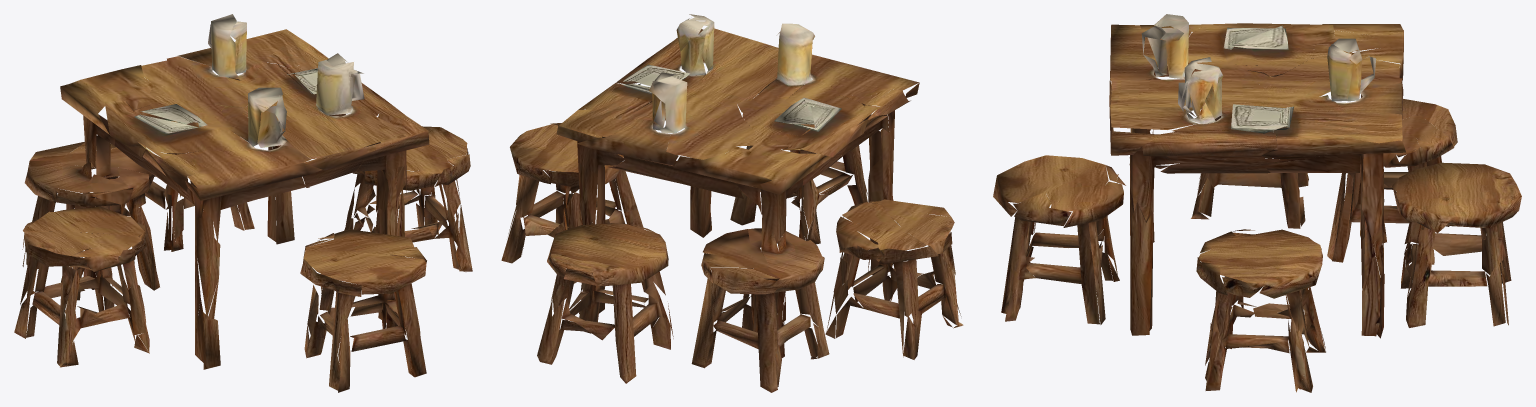
The model's file is izakaya_table.glb.
3 renders of one model, left to right at view 1: azimuth 30°, elevation 25°; view 2: azimuth 150°, elevation 25°; view 3: azimuth 270°, elevation 25°, orthographic. The views are drawn at different scales.
Parts seen in each view (by area): view 1: tripo_node_32dab903-fe34-469c-aa64-6209b7721dd0; view 2: tripo_node_32dab903-fe34-469c-aa64-6209b7721dd0; view 3: tripo_node_32dab903-fe34-469c-aa64-6209b7721dd0.
Part boxes in pixels (box(x1,y1,x2,y2)): tripo_node_32dab903-fe34-469c-aa64-6209b7721dd0: box(14, 14, 472, 392); tripo_node_32dab903-fe34-469c-aa64-6209b7721dd0: box(501, 14, 963, 392); tripo_node_32dab903-fe34-469c-aa64-6209b7721dd0: box(993, 14, 1521, 392).
Bounding box in the file's own units: 1.39 × 0.7667 × 1.41.
Materials: 1 (1 with a texture image).
